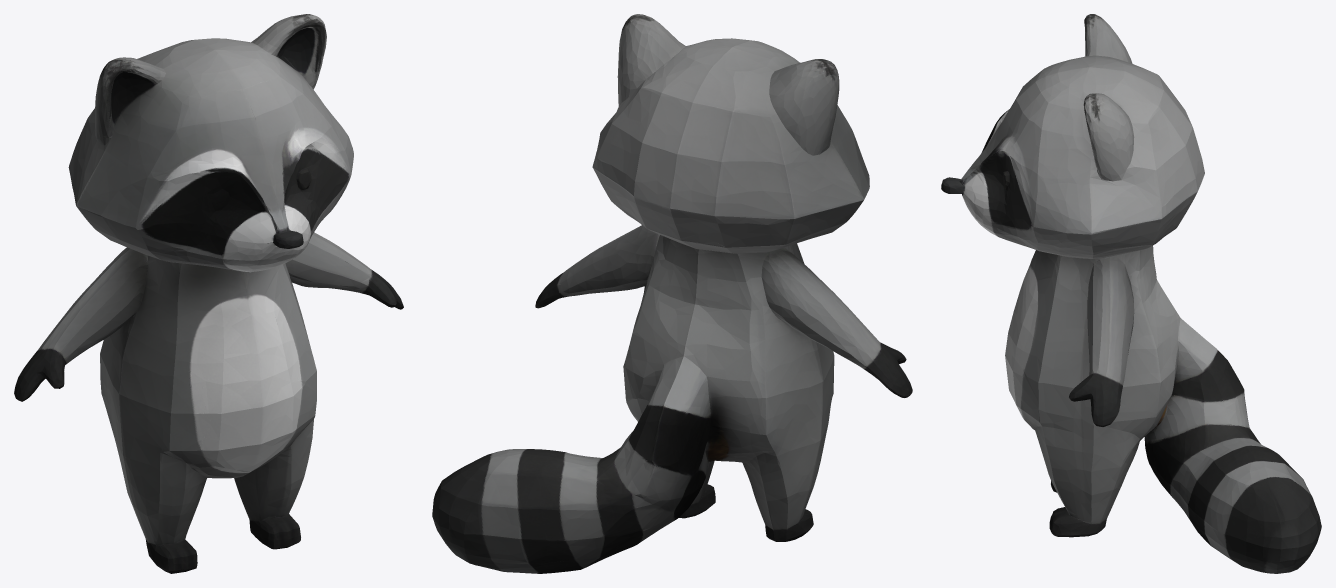
The model's file is raccoon.glb.
3 renders of one model, left to right at view 1: azimuth 30°, elevation 25°; view 2: azimuth 150°, elevation 25°; view 3: azimuth 270°, elevation 25°, orthographic. The views are drawn at different scales.
Visible parts, largest first — view 1: world; view 2: world; view 3: world.
Boxes of the visible parts, left/top/right/bottom form: world: left=14, top=14, right=403, bottom=573; world: left=432, top=14, right=912, bottom=573; world: left=941, top=14, right=1321, bottom=573.
Size of the model in its own units: 0.8052 by 0.999 by 0.7625.
Materials: 1 (1 with a texture image).
